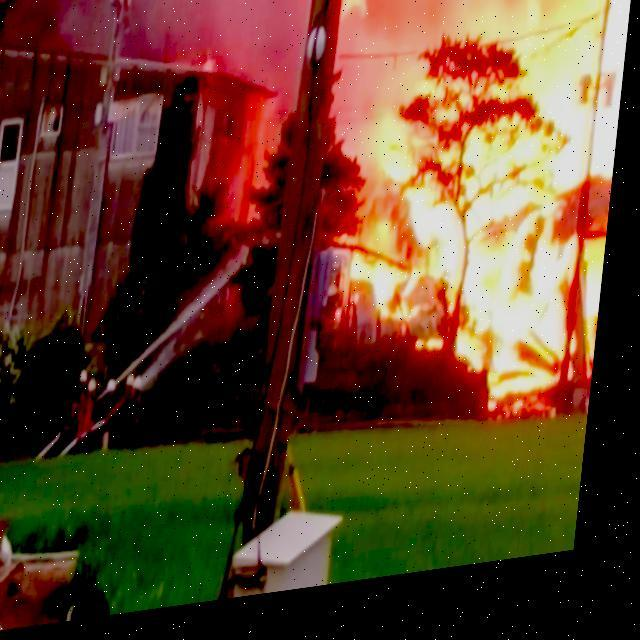Fire: (351, 0, 637, 436)
